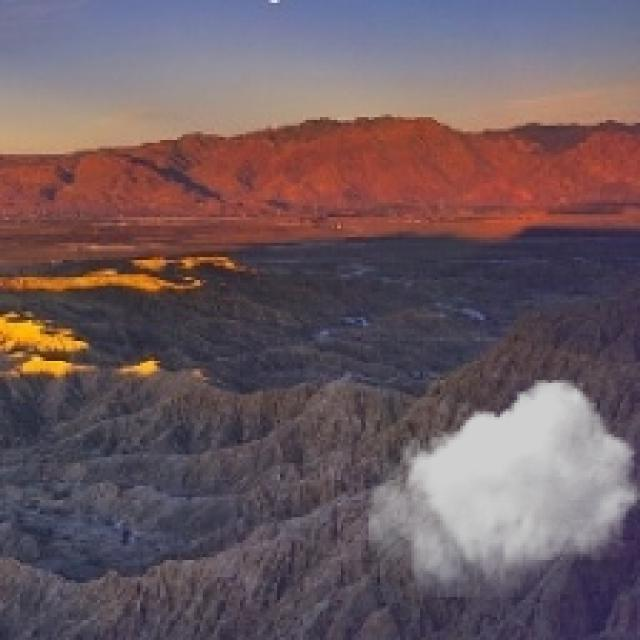Smoke: (368, 380, 638, 600)
